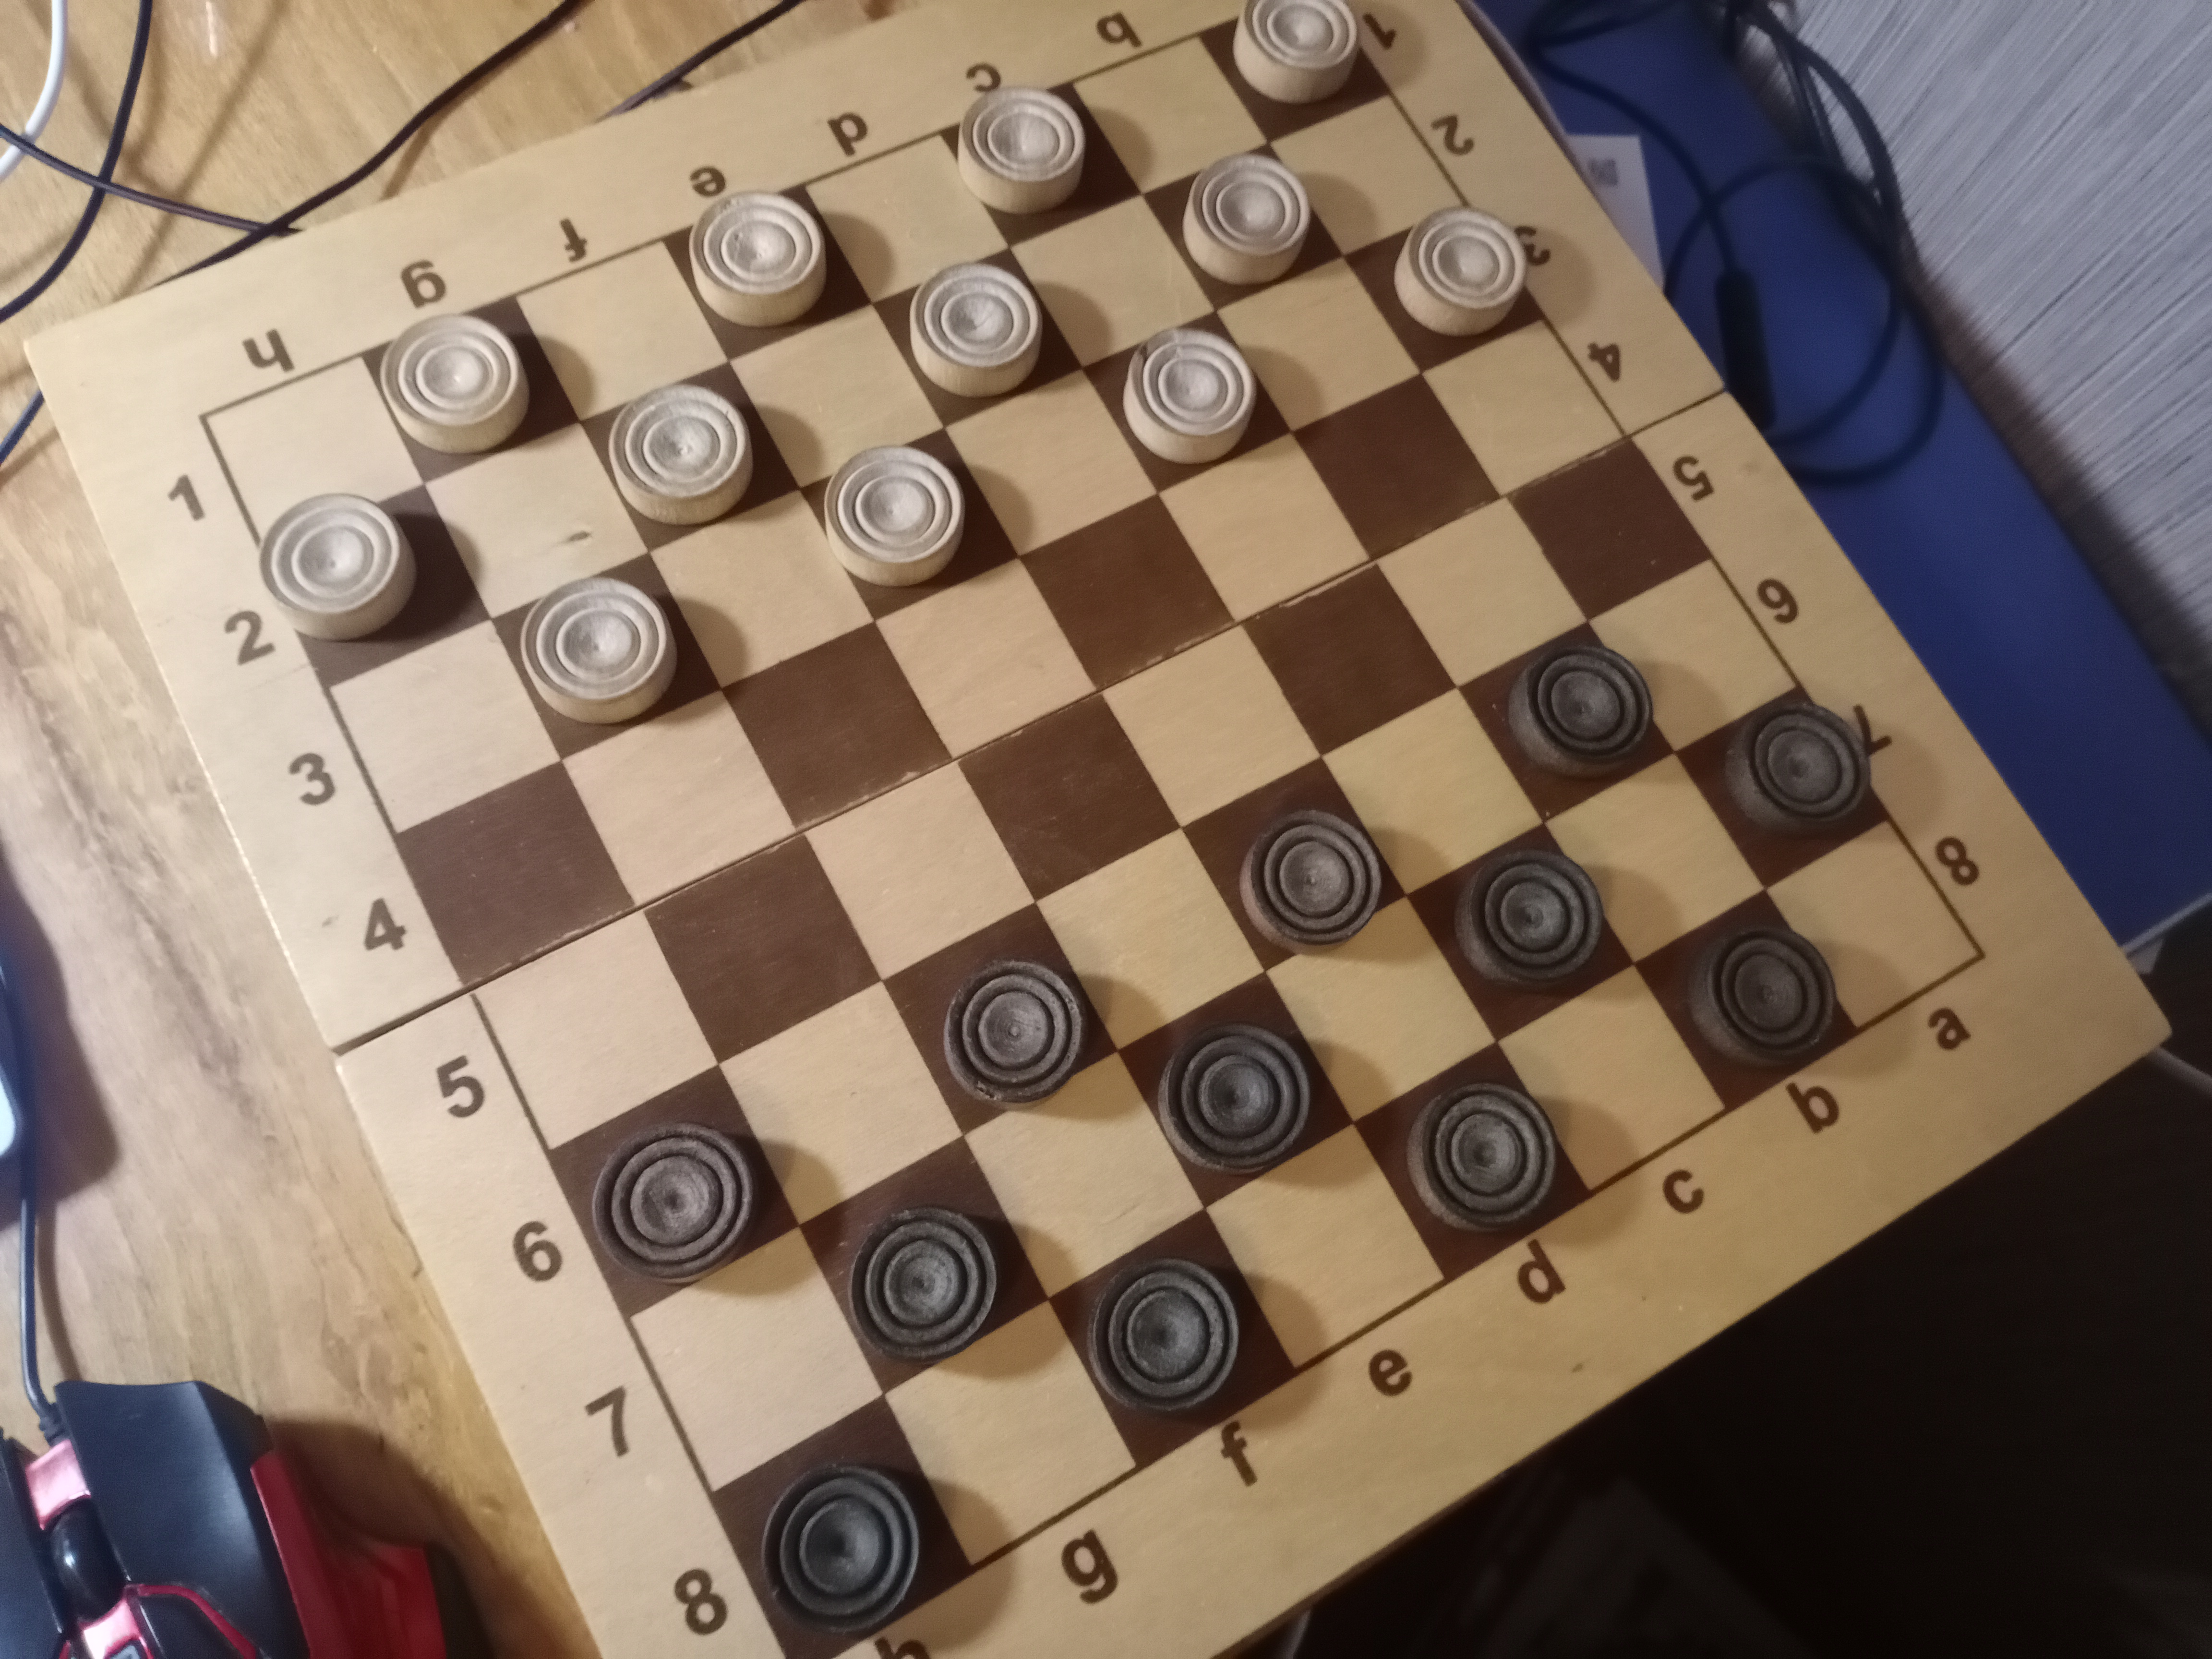Black_Draught: (712, 1396, 970, 1659), (1047, 1208, 1298, 1469), (799, 1136, 1047, 1399), (547, 1063, 799, 1314), (1353, 1042, 1592, 1279), (1118, 971, 1353, 1208), (880, 903, 1118, 1136), (1634, 889, 1860, 1112), (1407, 823, 1634, 1042), (1181, 756, 1407, 972), (1677, 683, 1888, 890), (1460, 622, 1676, 823)
